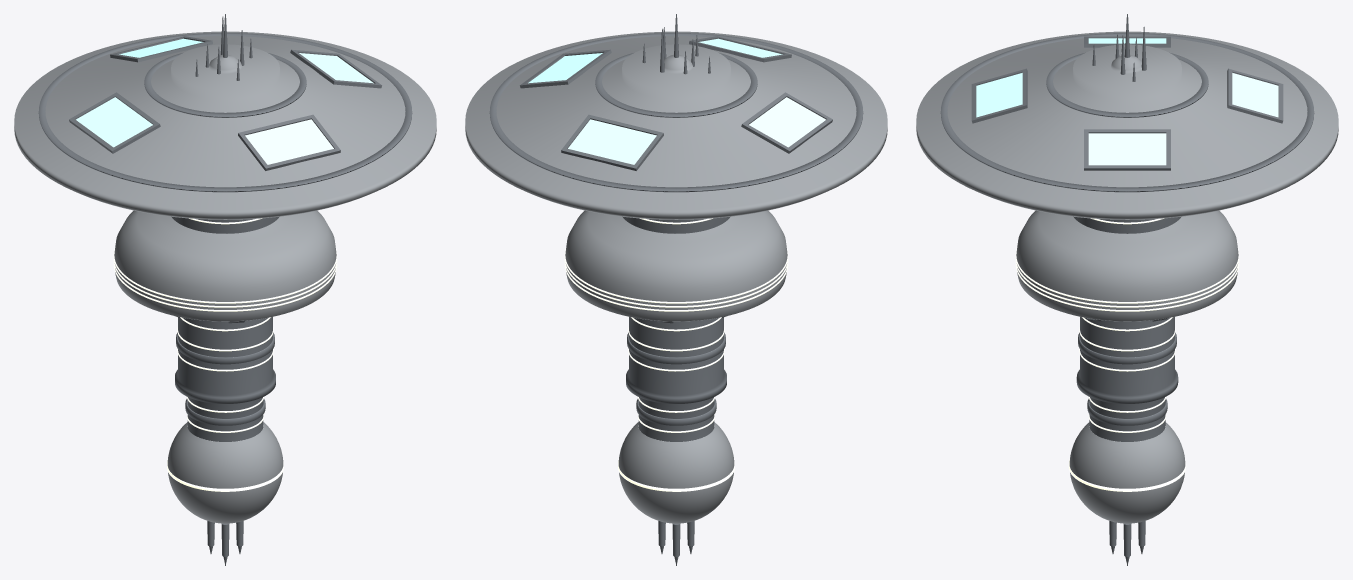
File: earth-spacedock.glb
3 views of the same model, side by side, from view 1: azimuth 30°, elevation 25°; view 2: azimuth 150°, elevation 25°; view 3: azimuth 270°, elevation 25° (orthographic).
Visible parts, largest first — view 1: cap, hull, panels, stem, base, space_doors, windows, neck, towers, antennas; view 2: cap, hull, panels, stem, base, space_doors, windows, neck, towers, antennas; view 3: cap, hull, panels, stem, base, space_doors, windows, neck, towers, antennas.
Boxes of the visible parts, x1,y1,x2,y2 form: cap: (14,31,436,219); hull: (114,210,336,321); panels: (38,33,412,425); stem: (175,317,275,441); base: (167,422,283,523); space_doors: (76,38,373,164); windows: (113,218,337,491); neck: (171,216,279,233); towers: (207,521,243,565); antennas: (195,14,252,80); cap: (465,31,887,219); hull: (565,210,787,321); panels: (489,33,863,425); stem: (626,317,726,441); base: (618,422,734,523); space_doors: (528,38,825,164); windows: (564,218,788,491); neck: (622,216,730,233); towers: (658,521,694,565); antennas: (642,14,710,74); cap: (916,31,1338,219); hull: (1016,210,1238,321); panels: (940,33,1314,425); stem: (1076,317,1178,441); base: (1069,422,1185,523); space_doors: (976,38,1278,165); windows: (1015,218,1239,491); neck: (1073,216,1181,233); towers: (1109,521,1145,565); antennas: (1092,14,1146,81).
Size of the model in its own units: 3800 by 5476 by 3800.
